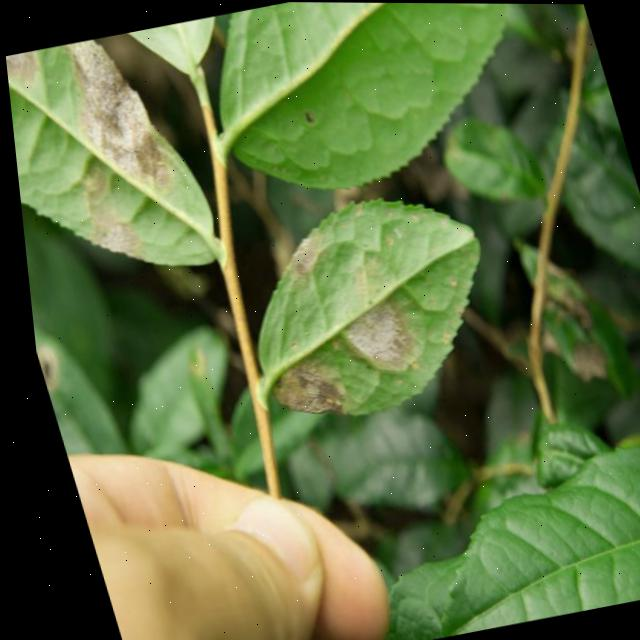Tea exobasidium blight: (66, 34, 179, 169), (60, 158, 153, 266), (334, 292, 432, 387), (257, 348, 354, 426), (265, 217, 335, 291)
